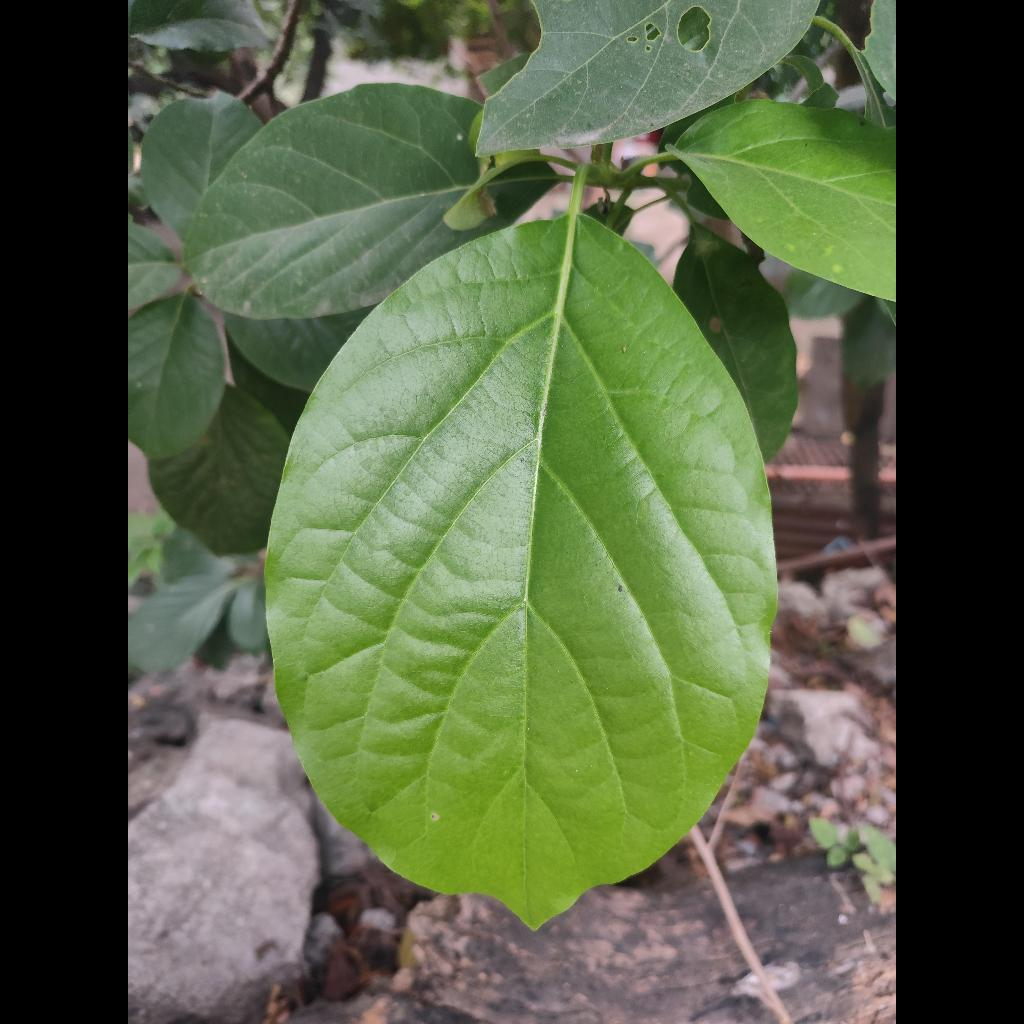Healthy: (267, 199, 776, 927)
